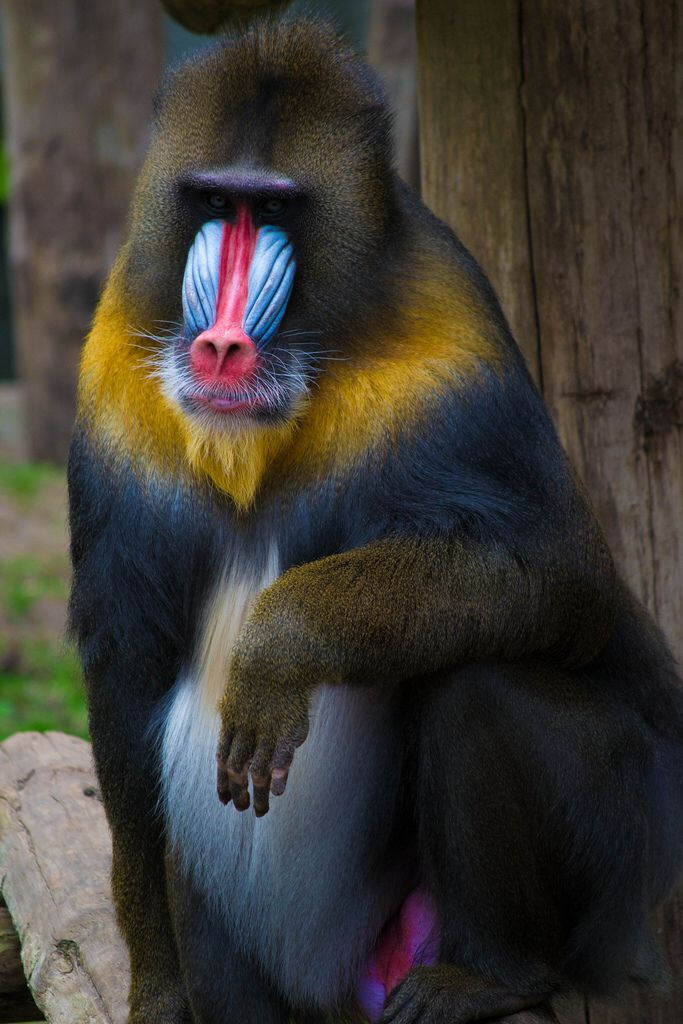Mandrill: (53, 29, 631, 991)
